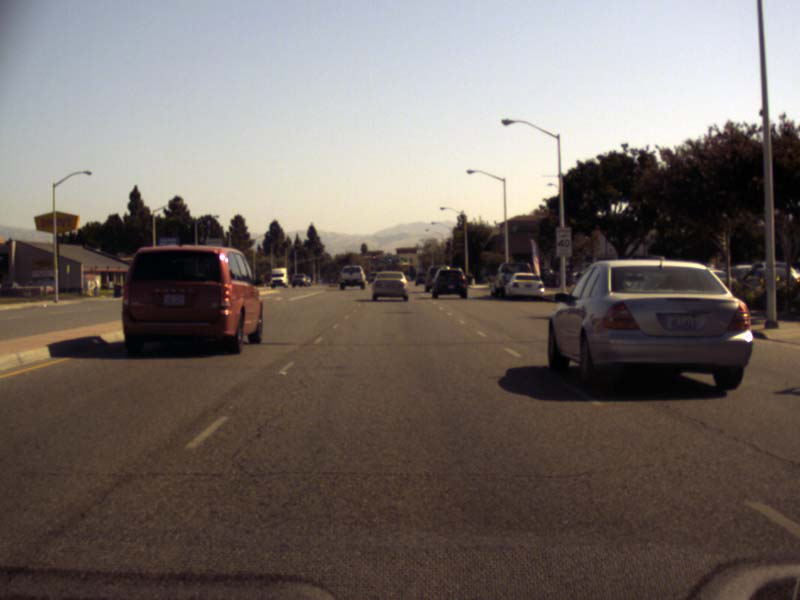Green: (399, 255, 404, 262)
Yellow: (372, 252, 376, 260)
